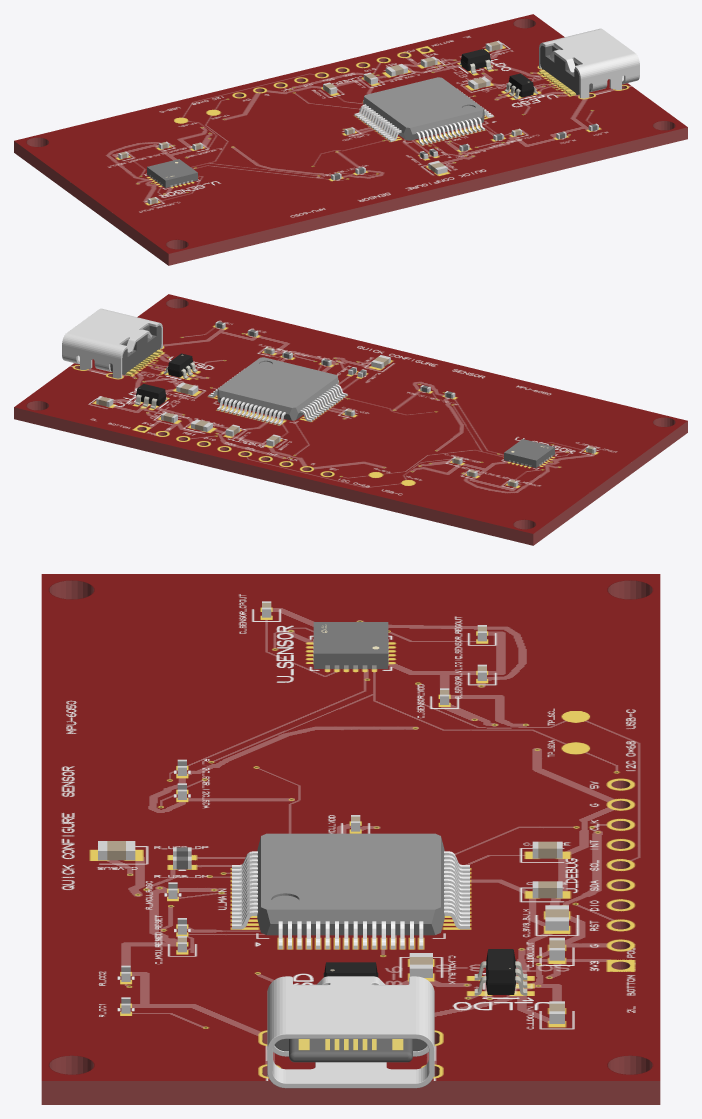
The picture shows the model from 3 angles, top to bottom: view 1: azimuth 30°, elevation 25°; view 2: azimuth 150°, elevation 25°; view 3: azimuth 270°, elevation 25°; orthographic projection. The views are drawn at different scales.
Visible parts, largest first — view 1: Box0, U_MAIN, J_USB, U_SENSOR, U_LDO, U_ESD; view 2: Box0, U_MAIN, J_USB, U_SENSOR, U_LDO, U_ESD; view 3: Box0, U_MAIN, J_USB, U_SENSOR, U_LDO, U_ESD.
Part boxes in pixels (x1=…): Box0: x1=14, y1=14, x2=687, y2=265; U_MAIN: x1=354, y1=77, x2=493, y2=145; J_USB: x1=539, y1=28, x2=639, y2=98; U_SENSOR: x1=147, y1=159, x2=197, y2=188; U_LDO: x1=459, y1=49, x2=491, y2=73; U_ESD: x1=504, y1=73, x2=538, y2=99; Box0: x1=14, y1=294, x2=687, y2=545; U_MAIN: x1=208, y1=357, x2=347, y2=425; J_USB: x1=62, y1=308, x2=162, y2=378; U_SENSOR: x1=504, y1=439, x2=554, y2=468; U_LDO: x1=135, y1=384, x2=167, y2=408; U_ESD: x1=163, y1=353, x2=197, y2=379; Box0: x1=41, y1=574, x2=660, y2=1104; U_MAIN: x1=232, y1=833, x2=469, y2=949; J_USB: x1=267, y1=976, x2=434, y2=1088; U_SENSOR: x1=313, y1=622, x2=388, y2=669; U_LDO: x1=474, y1=949, x2=527, y2=995; U_ESD: x1=323, y1=962, x2=378, y2=977.
Size of the model in its own units: 65.04 by 4.65 by 33.
17 materials, 2 textured.
